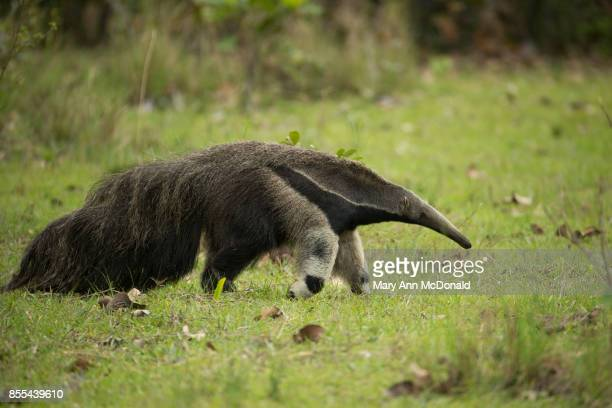TamanduaBandeira: (11, 137, 475, 307)
